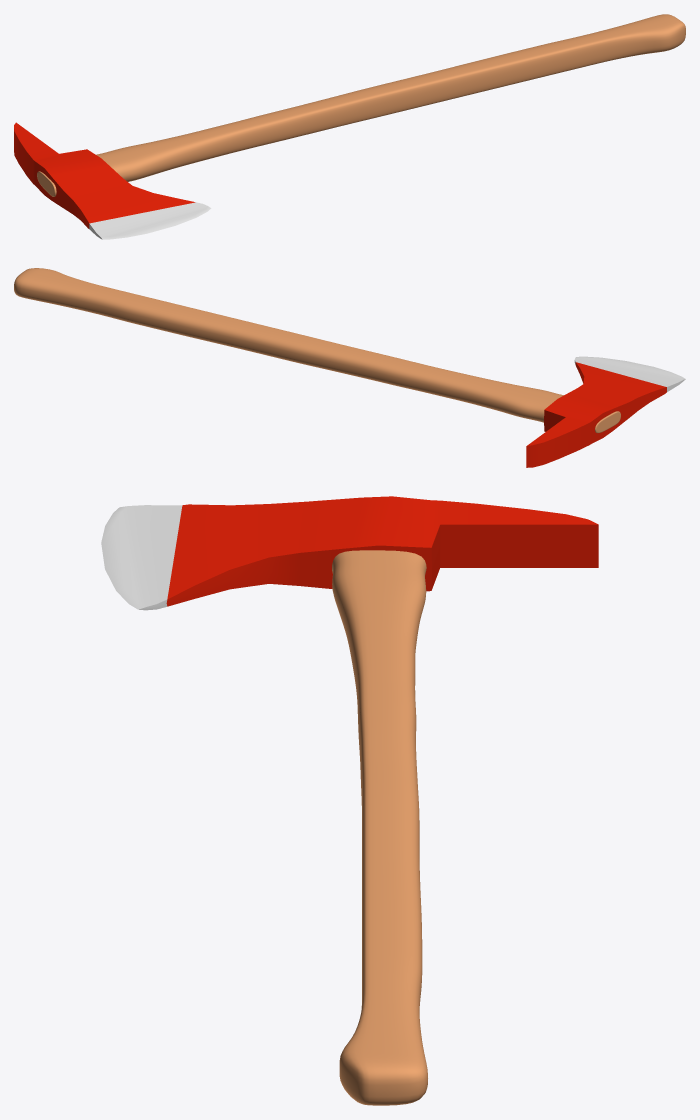
The model's file is axeExport-7.fbx.
3 views of the same model, one above another, from view 1: azimuth 30°, elevation 25°; view 2: azimuth 150°, elevation 25°; view 3: azimuth 270°, elevation 25° (orthographic). The views are drawn at different scales.
Parts seen in each view (by area): view 1: Handle.006; view 2: Handle.006; view 3: Handle.006.
Part boxes in pixels (x1,y1,x2,y2): Handle.006: [14, 14, 685, 239]; Handle.006: [14, 268, 685, 467]; Handle.006: [101, 496, 598, 1105].
Bounding box in the file's own units: 2100 × 84.02 × 754.
